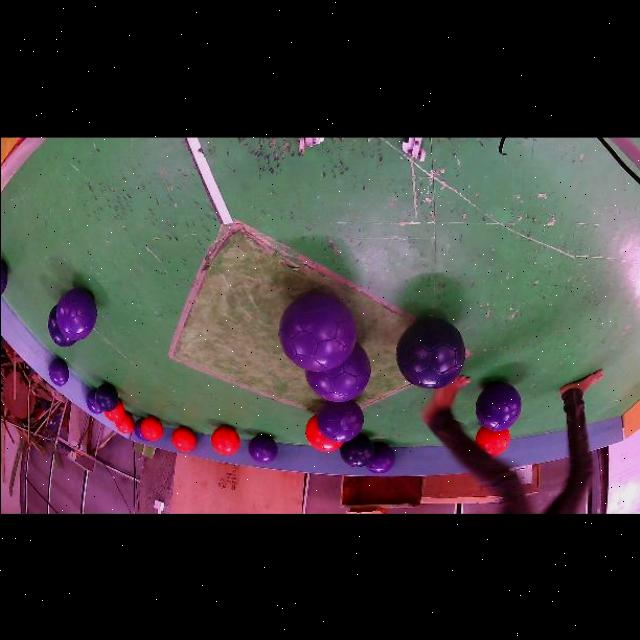B: (395, 319, 465, 388), (339, 434, 374, 468), (48, 305, 75, 348), (95, 383, 118, 412)
P: (278, 293, 356, 371), (304, 344, 370, 402), (475, 383, 521, 432), (55, 289, 96, 340), (316, 401, 363, 442), (248, 434, 278, 463), (365, 444, 394, 473), (48, 358, 68, 386), (85, 390, 102, 415), (133, 417, 148, 442), (0, 261, 7, 296)
R: (305, 415, 342, 453), (474, 426, 509, 456), (210, 426, 238, 455), (172, 428, 195, 453), (140, 417, 163, 441), (102, 400, 123, 422), (114, 412, 134, 434)
